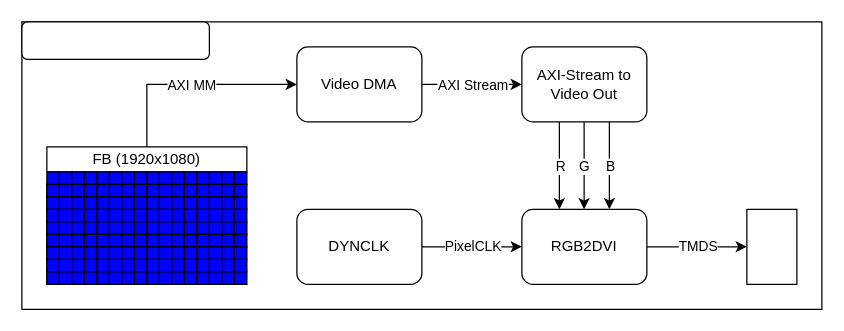
Some shapes in this 844 by 331 pixel diagram are drawn without their labels. The shapes that lost their labels are listed below. From the top down, each one's centre as x and y in pixels, then its label:
At [115,40]: "Video Pipeline (Simplified)".
At [771,246]: "HDMI".
